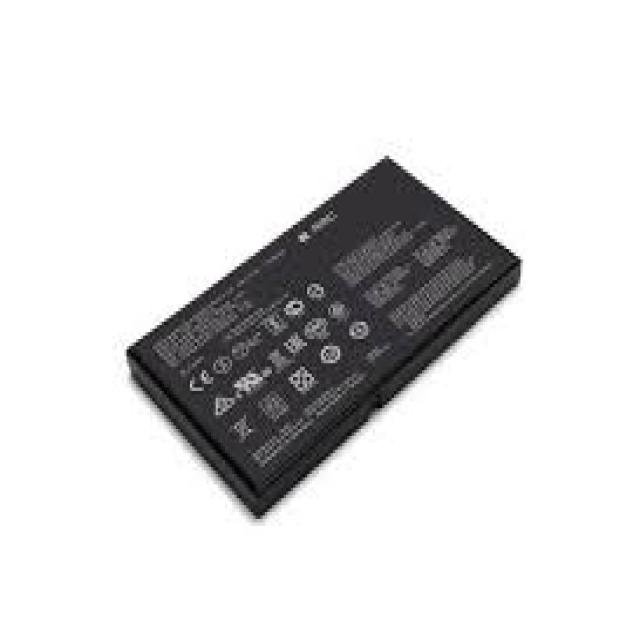non-organic waste: (123, 153, 518, 522)
